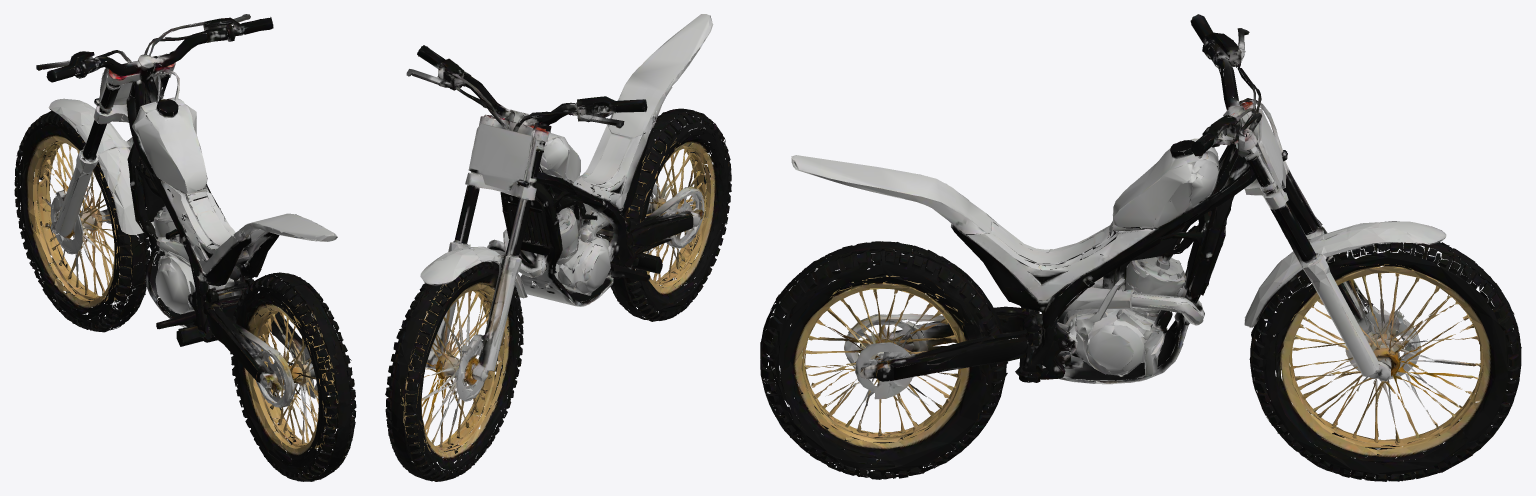
File: bike_trial.glb
3 views of the same model, side by side, from view 1: azimuth 30°, elevation 25°; view 2: azimuth 150°, elevation 25°; view 3: azimuth 270°, elevation 25° (orthographic). The views are drawn at different scales.
Visible parts, largest first — view 1: bike_body, wheel_f, wheel_r; view 2: bike_body, wheel_f, wheel_r; view 3: bike_body, wheel_f, wheel_r.
Boxes of the visible parts, x1,y1,x2,y2 form: bike_body: (36,14,354,445); wheel_f: (14,100,154,332); wheel_r: (215,290,356,481); bike_body: (406,14,731,437); wheel_f: (385,241,527,481); wheel_r: (604,123,731,321); bike_body: (760,14,1473,437); wheel_f: (1244,221,1521,481); wheel_r: (760,258,1004,479).
Size of the model in its own units: 1.05 by 1.5 by 2.58.
Materials: 1 (1 with a texture image).
